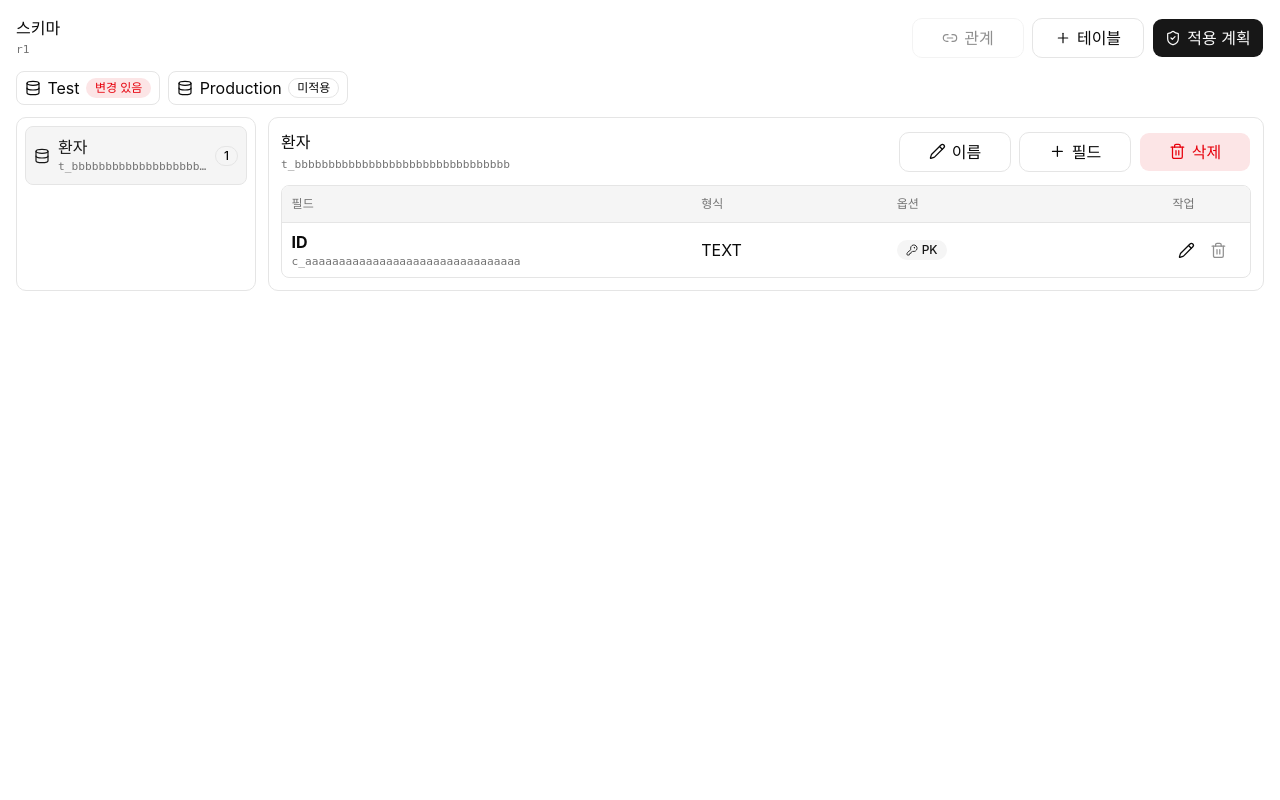
Test: DatabaseDesigner › keeps physical deletion behind a second migration impact confirmation
Expected: the table named "환자 필드" is shown, [281, 185, 1251, 278]
What coordinates should you click on to do the following:
click the button with aria-label "환자 삭제"
I would click on:
 (1195, 152)
Its box is [1139, 132, 1251, 172].
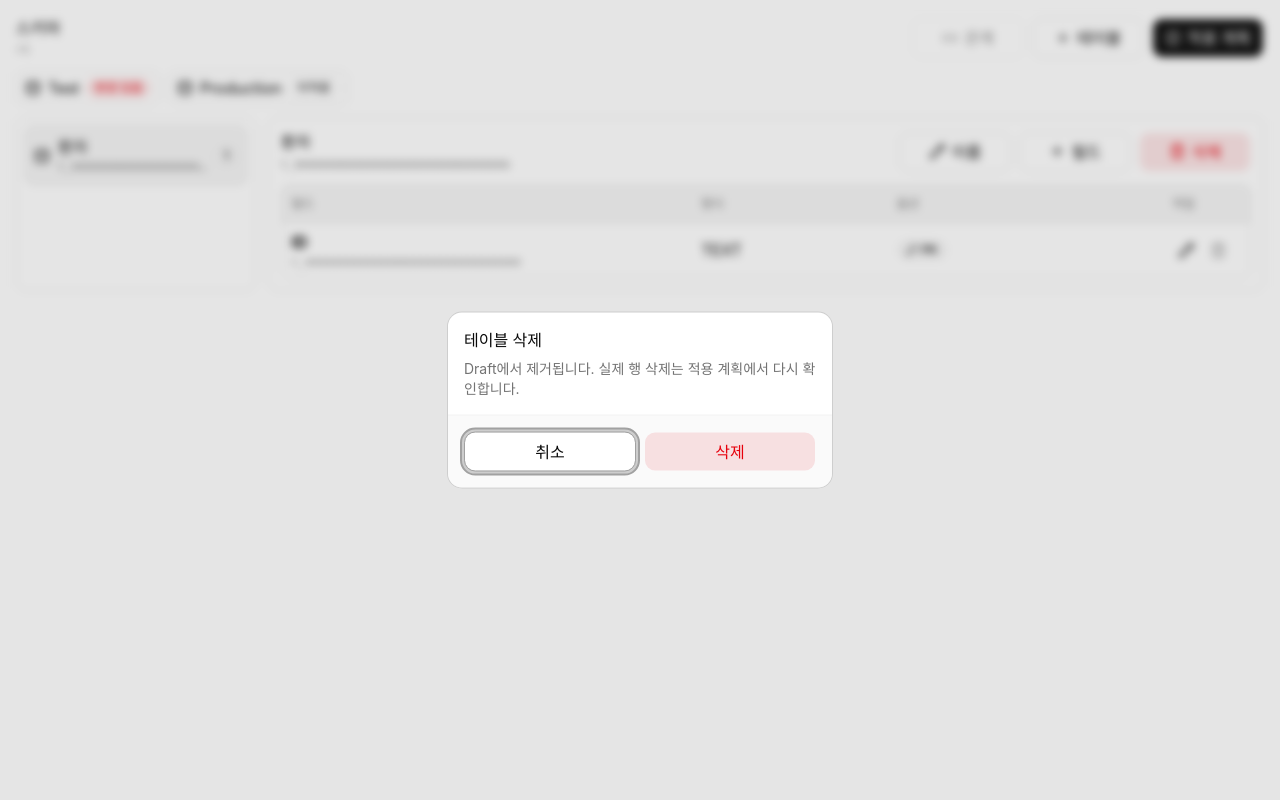
Result: the dialog "테이블 삭제" shows "실제 행 삭제는 적용 계획" at [464, 360, 815, 396]
What coordinates should you click on to do the following:
click the button "삭제"
I would click on:
 (730, 452)
Its box is [644, 432, 816, 472].
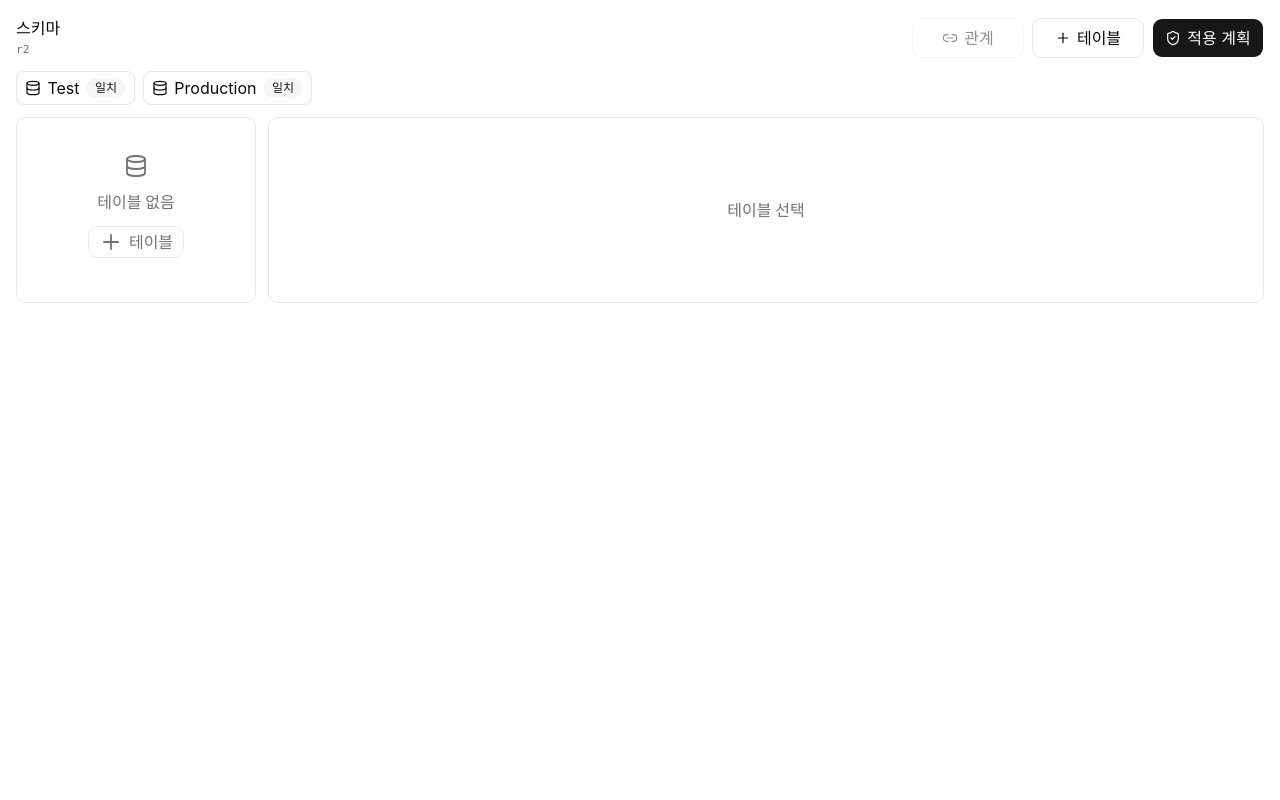
Result: the text "테이블 없음" is shown at [97, 190, 175, 214]
What coordinates should you click on to do the following:
click the button "적용 계획"
I would click on:
 (1208, 38)
Its box is [1152, 18, 1264, 58].
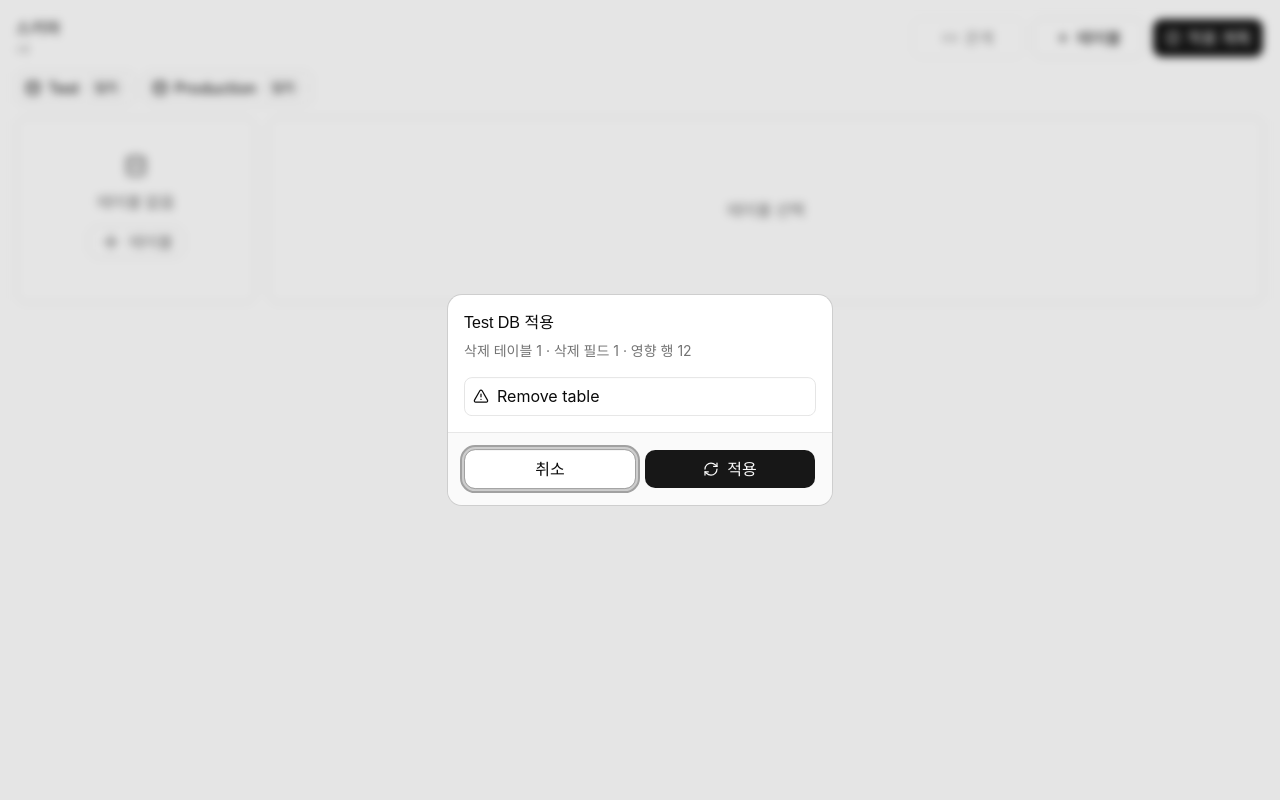
Result: the dialog "Test DB 적용" shows "삭제 테이블 1" at [464, 342, 692, 359]
Result: the dialog "Test DB 적용" shows "영향 행 12" at [464, 342, 692, 359]
